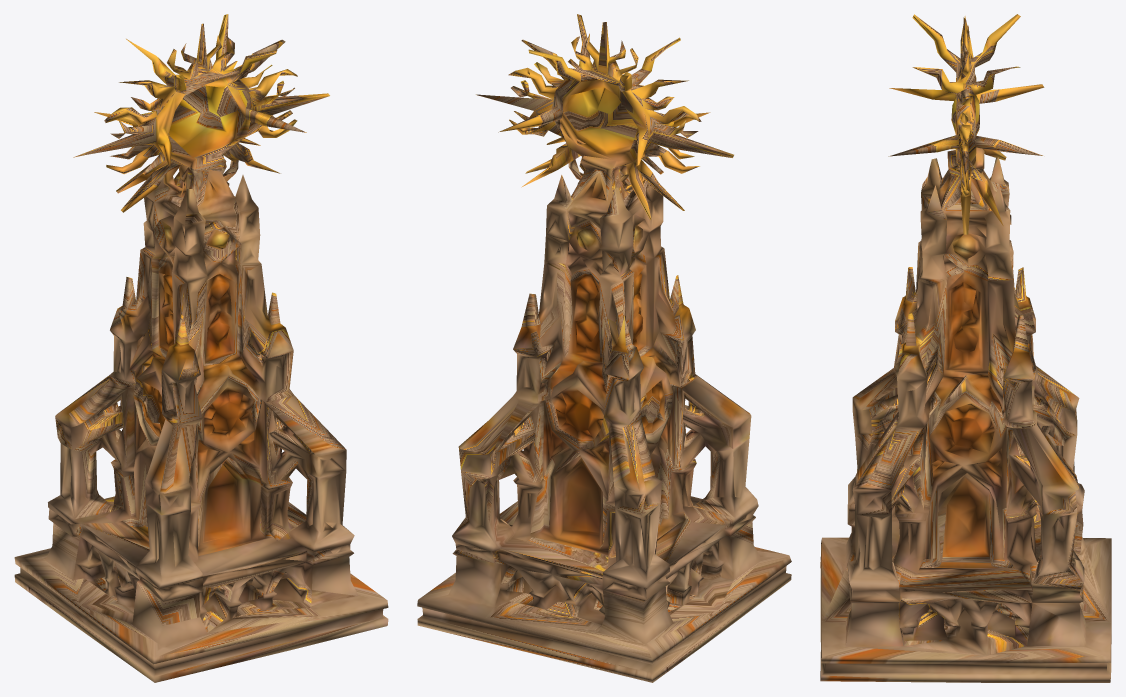
3 views of the same model, side by side, from view 1: azimuth 30°, elevation 25°; view 2: azimuth 150°, elevation 25°; view 3: azimuth 270°, elevation 25° (orthographic). The views are drawn at different scales.
Visible parts, largest first — view 1: untitled; view 2: untitled; view 3: untitled.
Boxes of the visible parts, left/top/right/bottom form: untitled: left=14, top=14, right=388, bottom=682; untitled: left=417, top=14, right=791, bottom=682; untitled: left=820, top=14, right=1111, bottom=682.
Bounding box in the file's own units: 0.9255 × 2 × 0.8707.
1 material, 1 textured.
